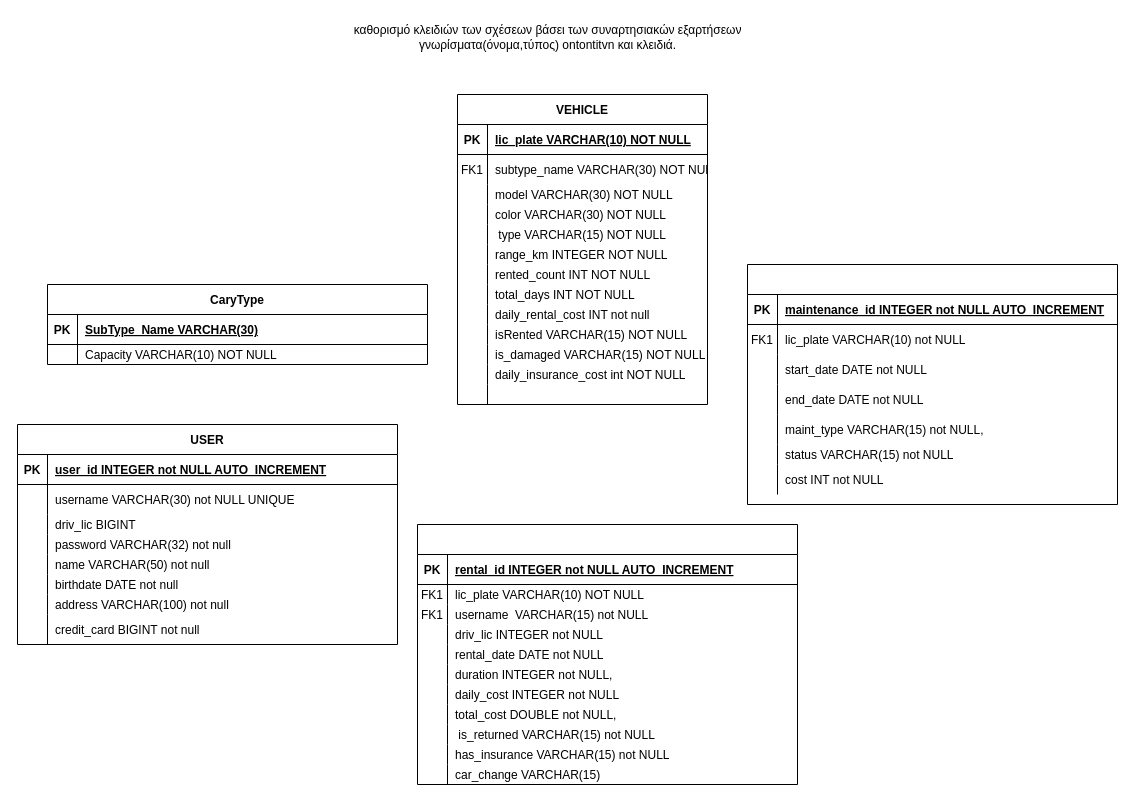
Image size: 1135x802. Some labels were removed from this diagram. Here are the shapes that lost their labels. From the top down, the box of each, then its label:
(746, 264, 1118, 504): Maintance
(416, 524, 798, 784): RENTALS
